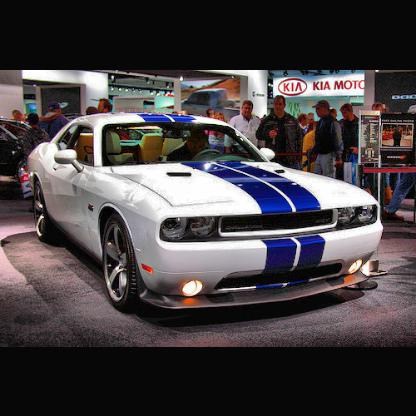Dodge Challenger SRT8 2011: (31, 114, 384, 313)
